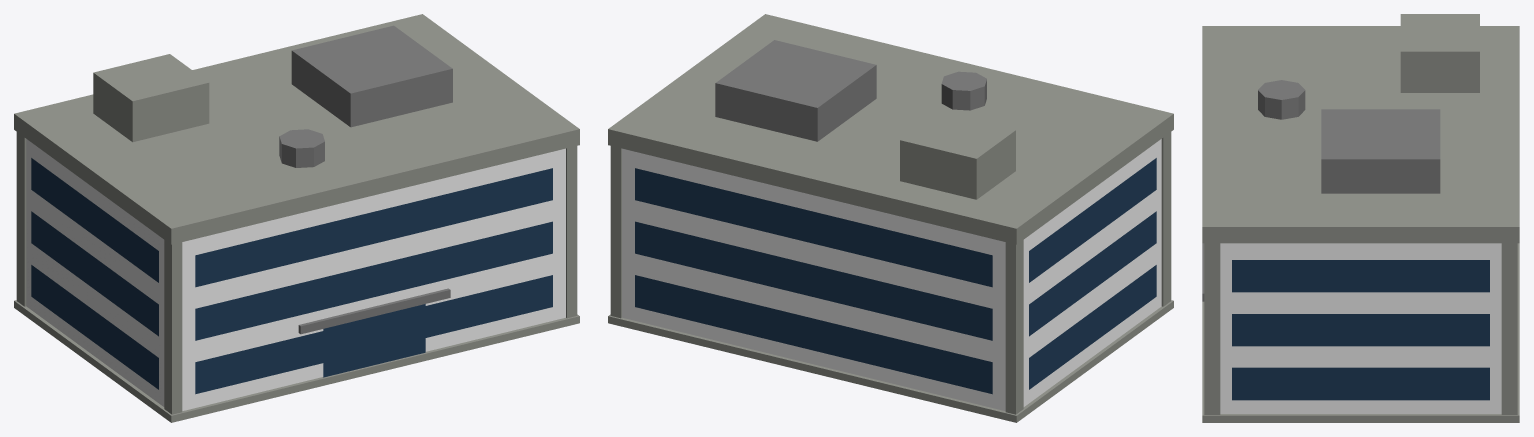
File: mashup-admin-mid-prebuilt.fbx
3 renders of one model, left to right at view 1: azimuth 30°, elevation 25°; view 2: azimuth 150°, elevation 25°; view 3: azimuth 270°, elevation 25°, orthographic.
Visible parts, largest first — view 1: a1056.AdminBuilding; view 2: a1056.AdminBuilding; view 3: a1056.AdminBuilding.
Boxes of the visible parts, x1,y1,x2,y2 form: a1056.AdminBuilding: [14, 14, 579, 422]; a1056.AdminBuilding: [608, 14, 1173, 422]; a1056.AdminBuilding: [1202, 14, 1519, 422].
Bounding box in the file's own units: 24 × 13.2 × 16.
